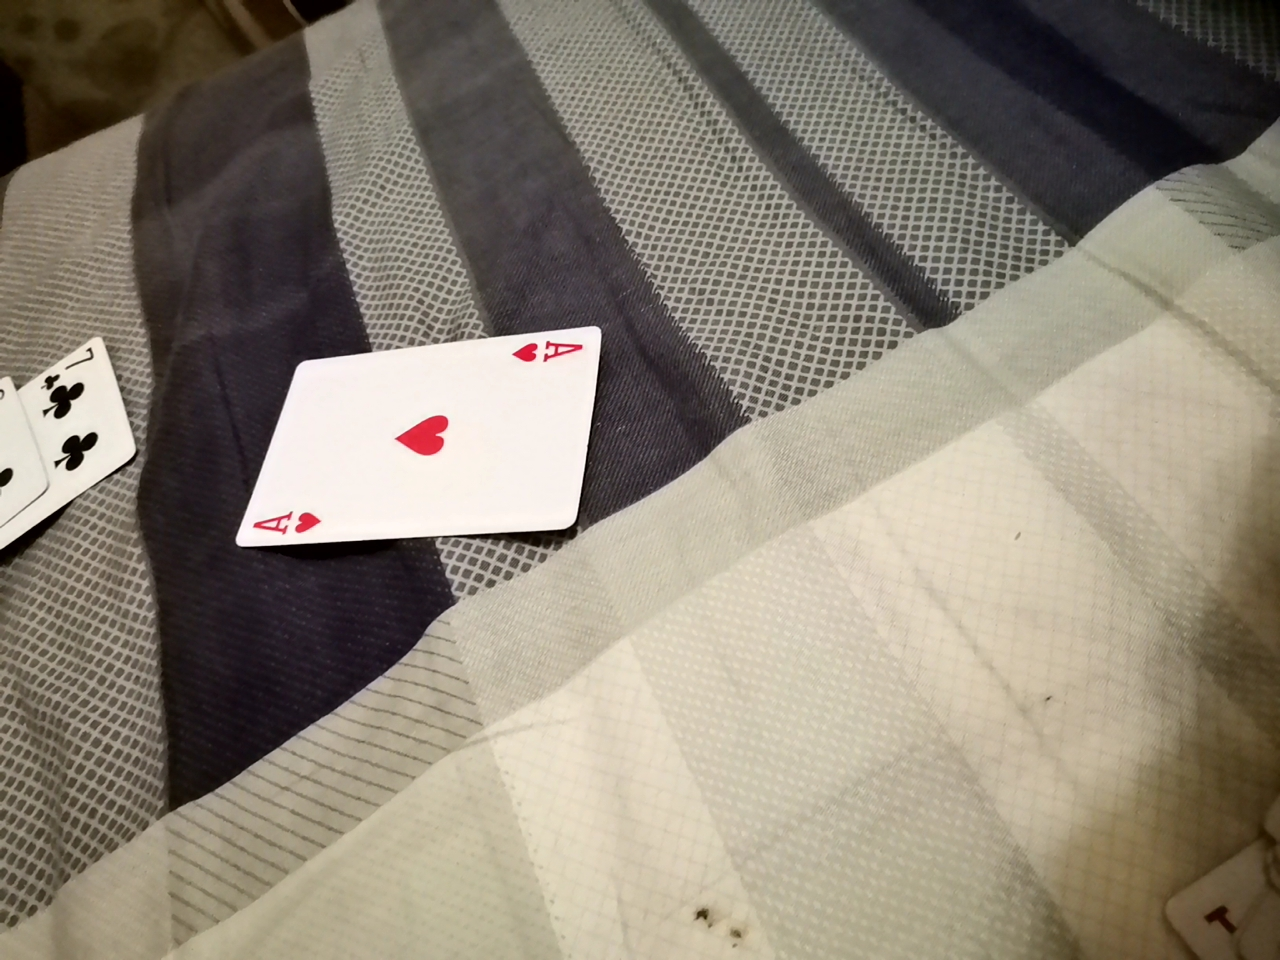hx a: (238, 317, 594, 566)
